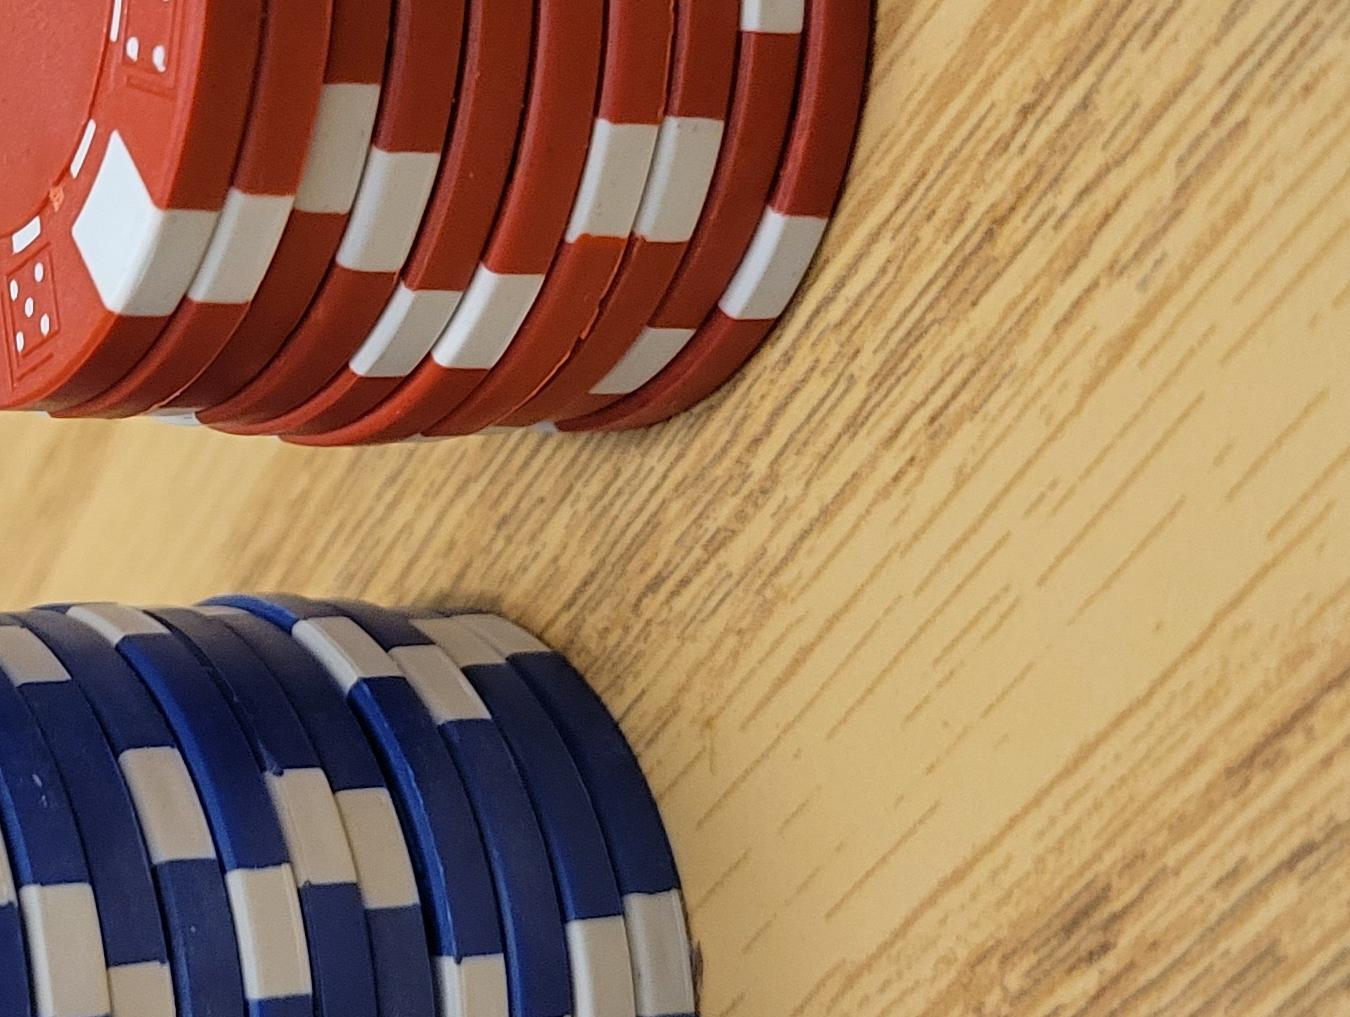Chip: (1, 377, 545, 1017)
